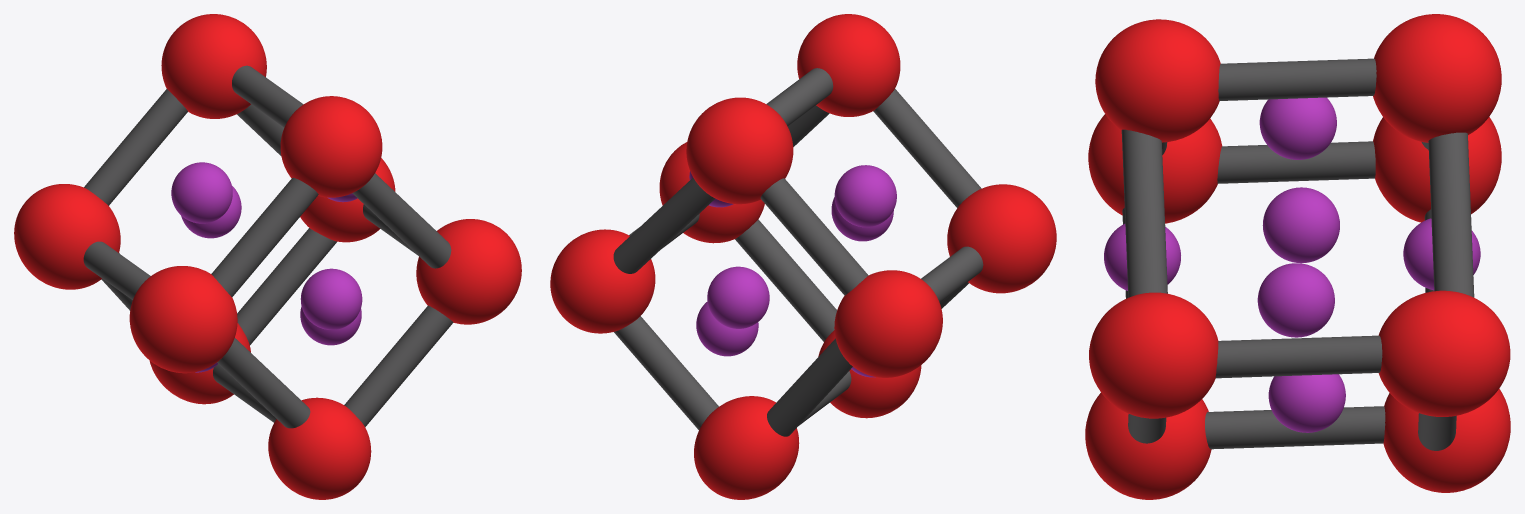
The model's file is fcc.fbx.
3 renders of one model, left to right at view 1: azimuth 30°, elevation 25°; view 2: azimuth 150°, elevation 25°; view 3: azimuth 270°, elevation 25°, orthographic. The views are drawn at different scales.
Visible parts, largest first — view 1: node_id388, node_id390, node_id389, node_id392, node_id391, node_id394, node_id400, node_id274, node_id398, node_id276, node_id386, node_id397 (+10 smaller); view 2: node_id390, node_id391, node_id388, node_id393, node_id395, node_id389, node_id398, node_id400, node_id274, node_id276, node_id385, node_id392 (+9 smaller); view 3: node_id395, node_id392, node_id391, node_id389, node_id394, node_id393, node_id388, node_id390, node_id386, node_id385, node_id275, node_id399 (+10 smaller).
Part boxes in pixels (x1,y1,x2,y2): node_id388: [129, 266, 237, 373]; node_id390: [14, 184, 120, 289]; node_id389: [280, 96, 382, 197]; node_id392: [416, 219, 521, 324]; node_id391: [161, 14, 266, 118]; node_id394: [268, 397, 371, 499]; node_id400: [211, 177, 318, 297]; node_id274: [344, 305, 453, 427]; node_id398: [84, 89, 187, 205]; node_id276: [237, 228, 336, 345]; node_id386: [352, 173, 451, 268]; node_id397: [217, 338, 310, 428]; node_id390: [834, 270, 942, 377]; node_id391: [686, 97, 793, 204]; node_id388: [947, 184, 1056, 293]; node_id393: [694, 396, 799, 499]; node_id395: [550, 229, 655, 333]; node_id389: [797, 14, 900, 116]; node_id398: [760, 178, 868, 295]; node_id400: [873, 89, 981, 207]; node_id274: [735, 219, 836, 341]; node_id276: [614, 316, 718, 429]; node_id385: [613, 177, 715, 273]; node_id392: [659, 142, 764, 243]; node_id395: [1378, 290, 1510, 416]; node_id392: [1089, 292, 1218, 418]; node_id391: [1373, 14, 1501, 142]; node_id389: [1095, 19, 1220, 142]; node_id394: [1085, 393, 1211, 499]; node_id393: [1383, 388, 1510, 492]; node_id388: [1088, 114, 1222, 223]; node_id390: [1373, 117, 1501, 222]; node_id386: [1121, 129, 1167, 297]; node_id385: [1428, 132, 1474, 297]; node_id275: [1215, 335, 1382, 378]; node_id399: [1218, 58, 1376, 100].
Size of the model in its own units: 0.4201 by 0.4118 by 0.3314.
Materials: 26 (26 with a texture image).
